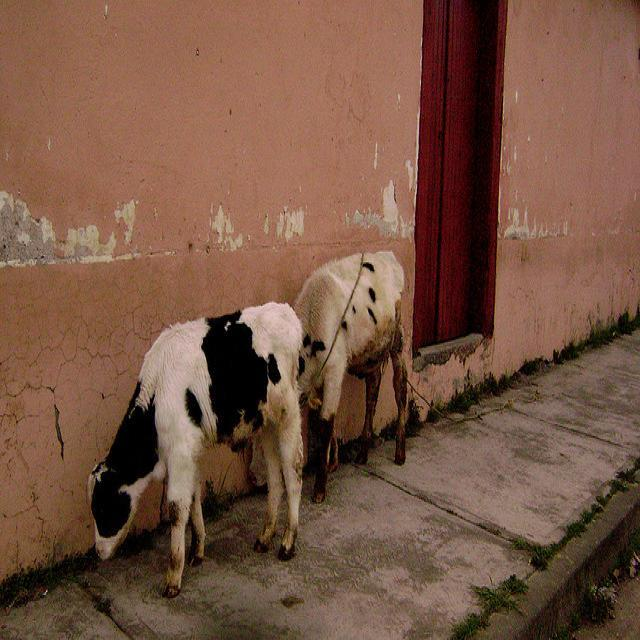cow: (86, 297, 304, 594), (292, 246, 406, 504)
